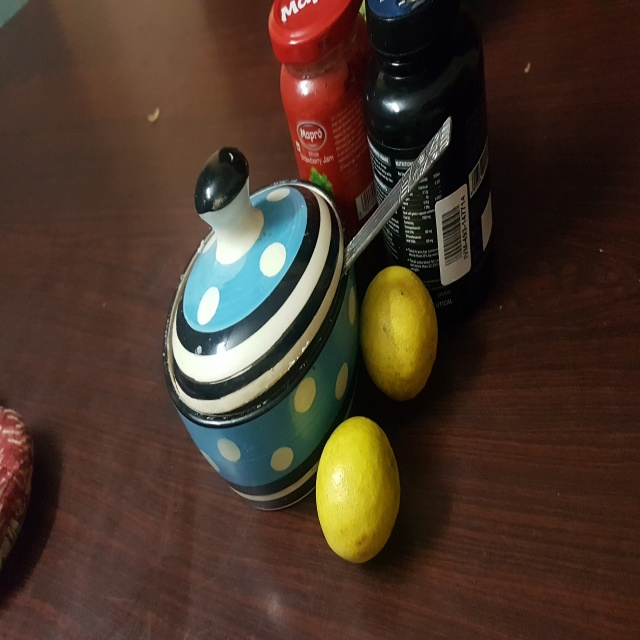lemon: (312, 412, 404, 569), (353, 265, 451, 399)
